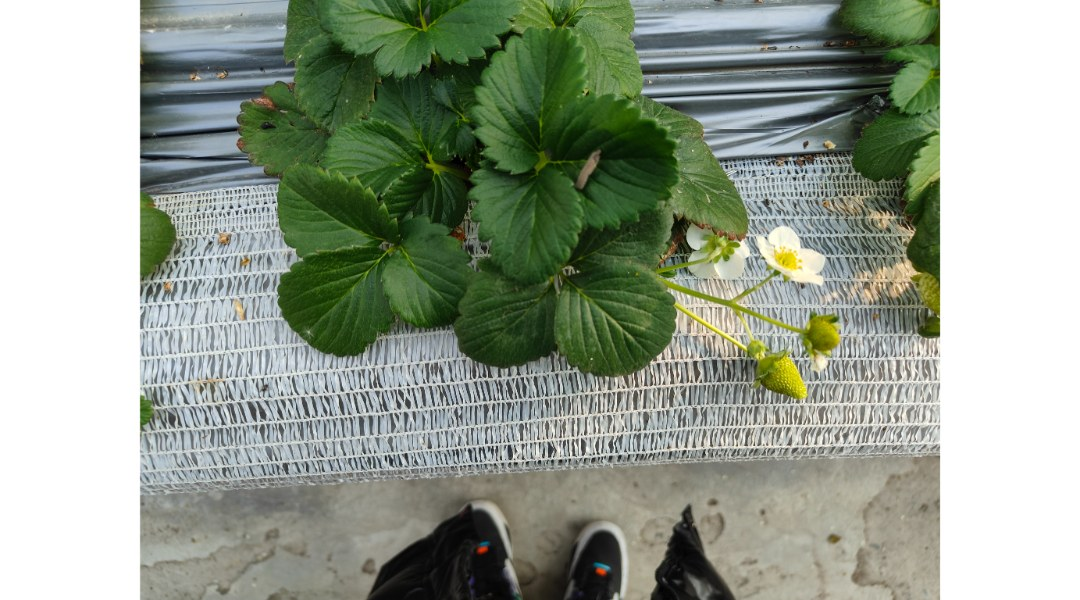berry: (741, 338, 826, 411), (800, 305, 848, 359)
flower: (748, 204, 836, 296), (668, 209, 754, 275)
strain: (679, 303, 750, 359), (657, 282, 728, 307)
